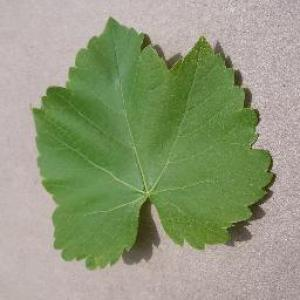Folha: (31, 15, 276, 270)
